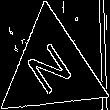N_SE: (23, 37, 80, 101)
